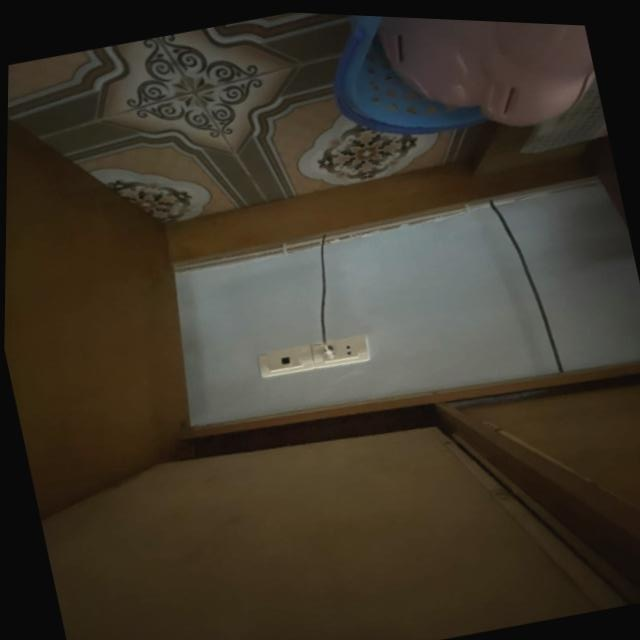outlet: (309, 332, 371, 373), (255, 342, 314, 382)
